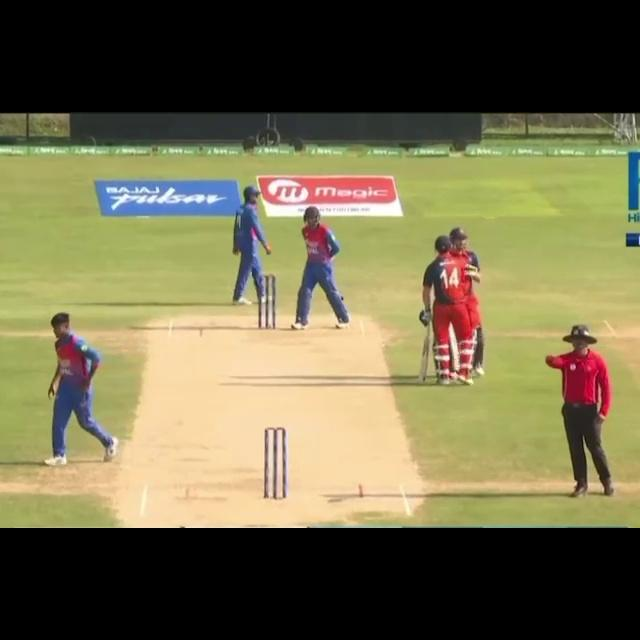umpire: (537, 321, 631, 501)
